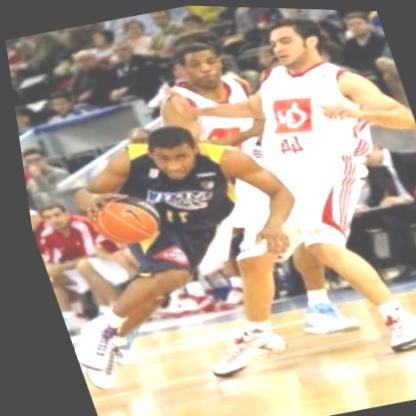basketball: (82, 189, 163, 251)
